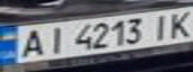1: (109, 17, 130, 47)
2: (90, 19, 115, 51)
3: (124, 16, 148, 45)
4: (69, 20, 93, 52)
A: (15, 26, 51, 60)
I: (39, 24, 69, 55), (145, 11, 175, 42)
K: (163, 7, 193, 38)
